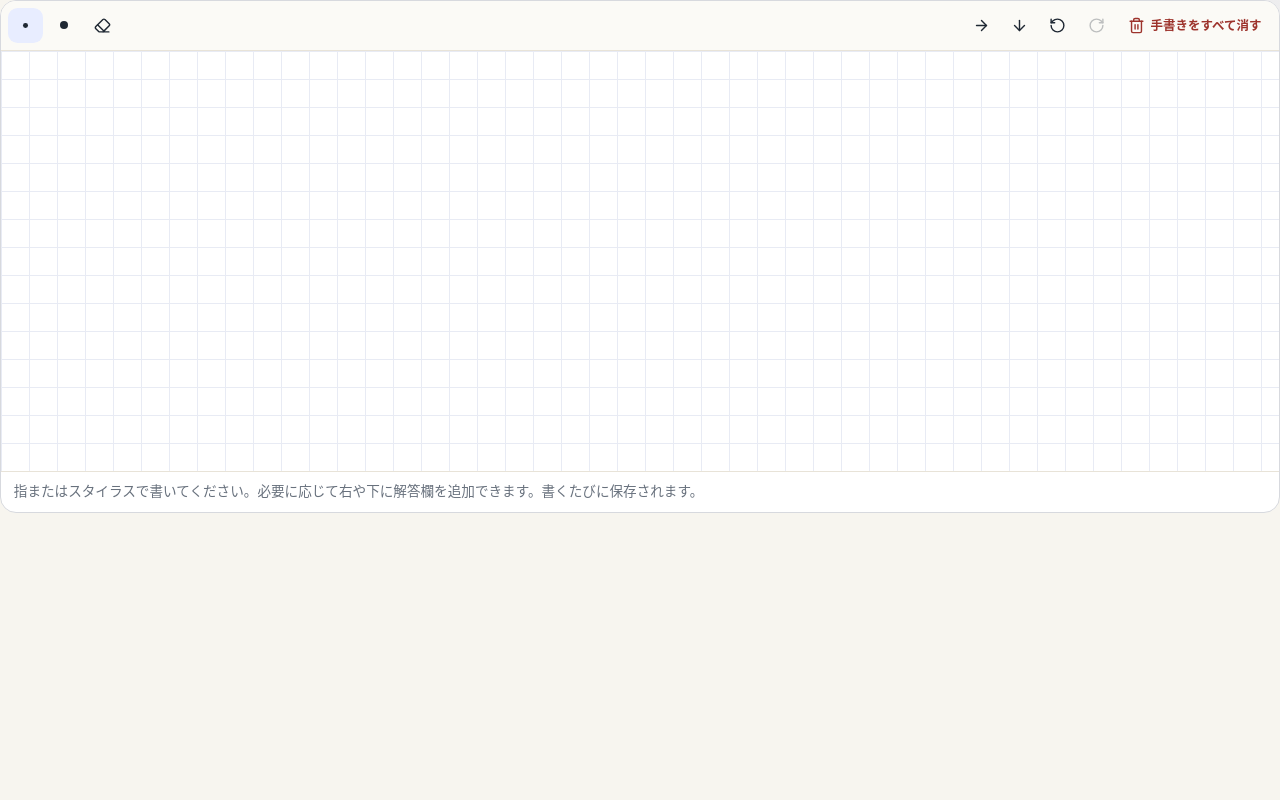
Test: HandwritingCanvas › keeps the destructive clear action labelled in ja
The width and height of the screenshot is (1280, 800).
Click the button "手書きをすべて消す".
click(1195, 25)  # box [1118,8,1272,43]
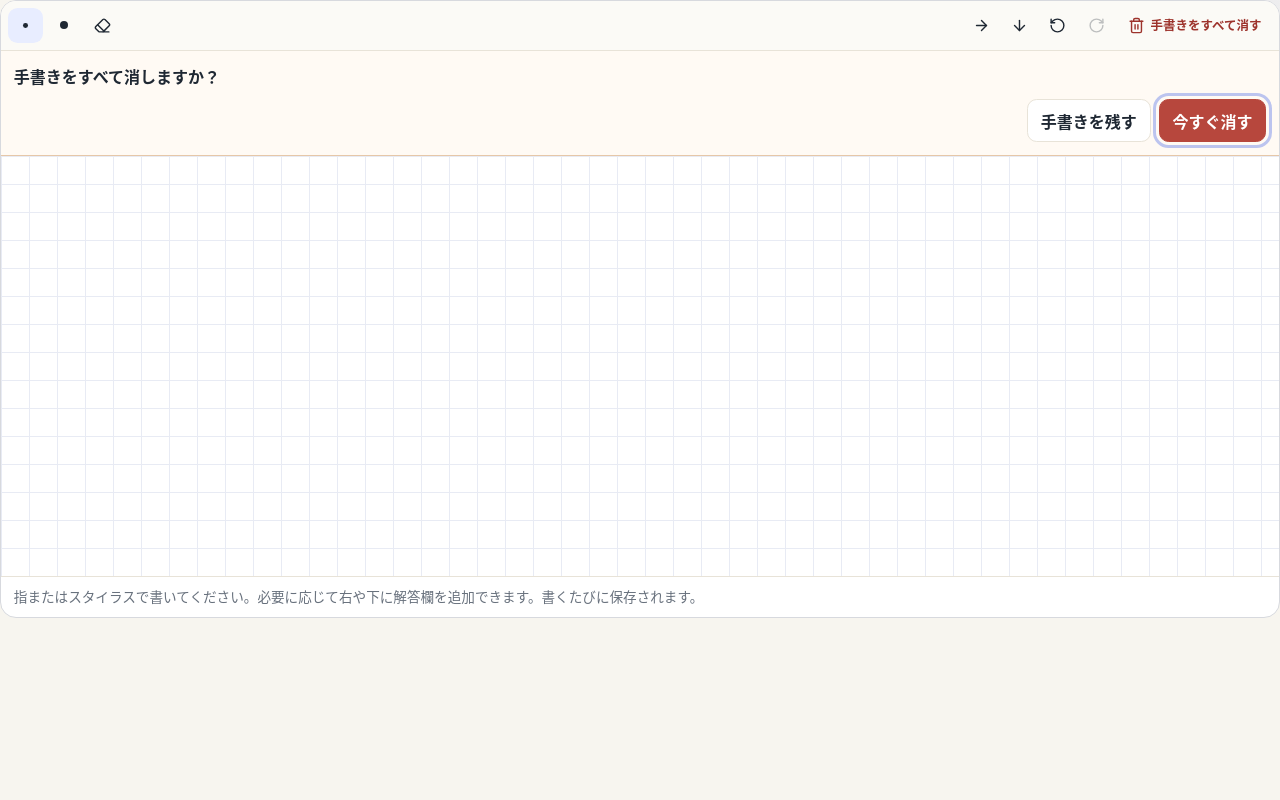
Expected: the button "今すぐ消す" is shown, [1159,99,1266,142]
